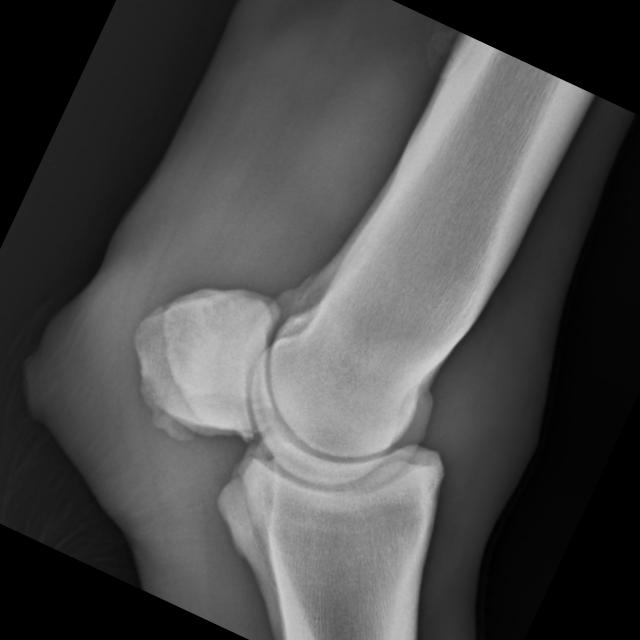bone remodeling: (111, 363, 219, 471)
